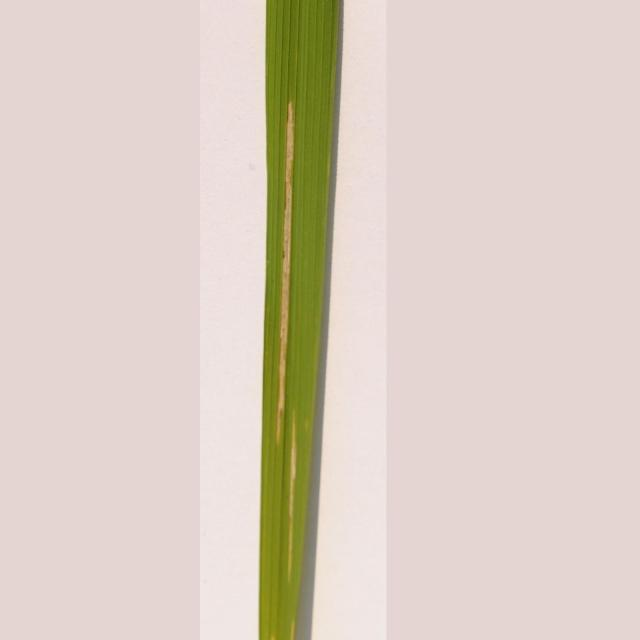Bacterial leaf blight: (198, 0, 392, 640)
